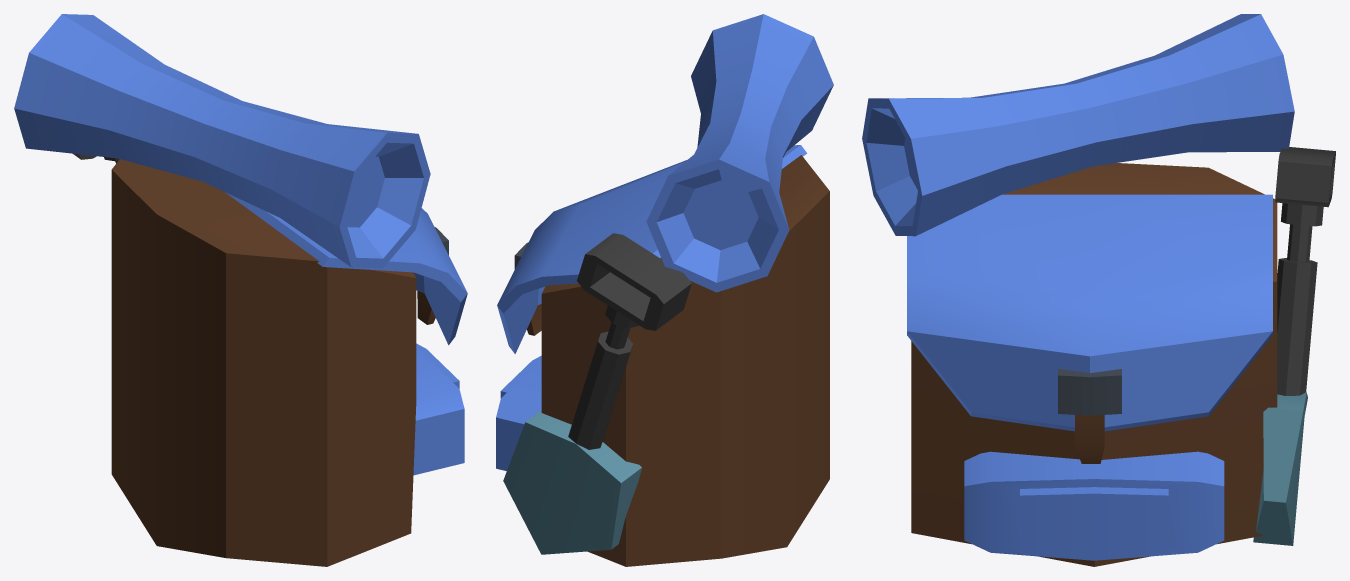
The model's file is backpack.fbx.
3 views of the same model, side by side, from view 1: azimuth 30°, elevation 25°; view 2: azimuth 150°, elevation 25°; view 3: azimuth 270°, elevation 25° (orthographic). The views are drawn at different scales.
Visible parts, largest first — view 1: Cube.001; view 2: Cube.001; view 3: Cube.001.
Boxes of the visible parts, <box> form: Cube.001: <box>14,14,467,566</box>; Cube.001: <box>496,14,833,566</box>; Cube.001: <box>862,14,1335,566</box>.
Size of the model in its own units: 1.55 by 2 by 1.81.
